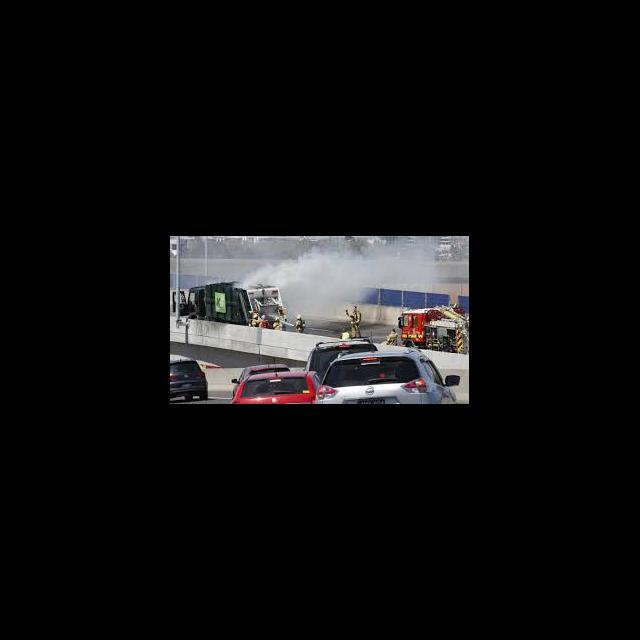Smoke: (287, 262, 341, 313), (340, 242, 361, 300), (252, 264, 288, 284), (298, 245, 340, 262)
